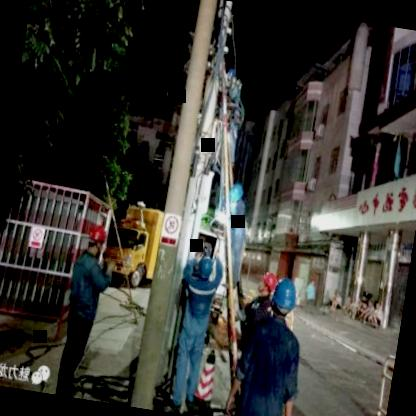helmet: (267, 276, 300, 323), (254, 266, 280, 297), (192, 254, 217, 286), (84, 223, 110, 252), (226, 178, 245, 208)
